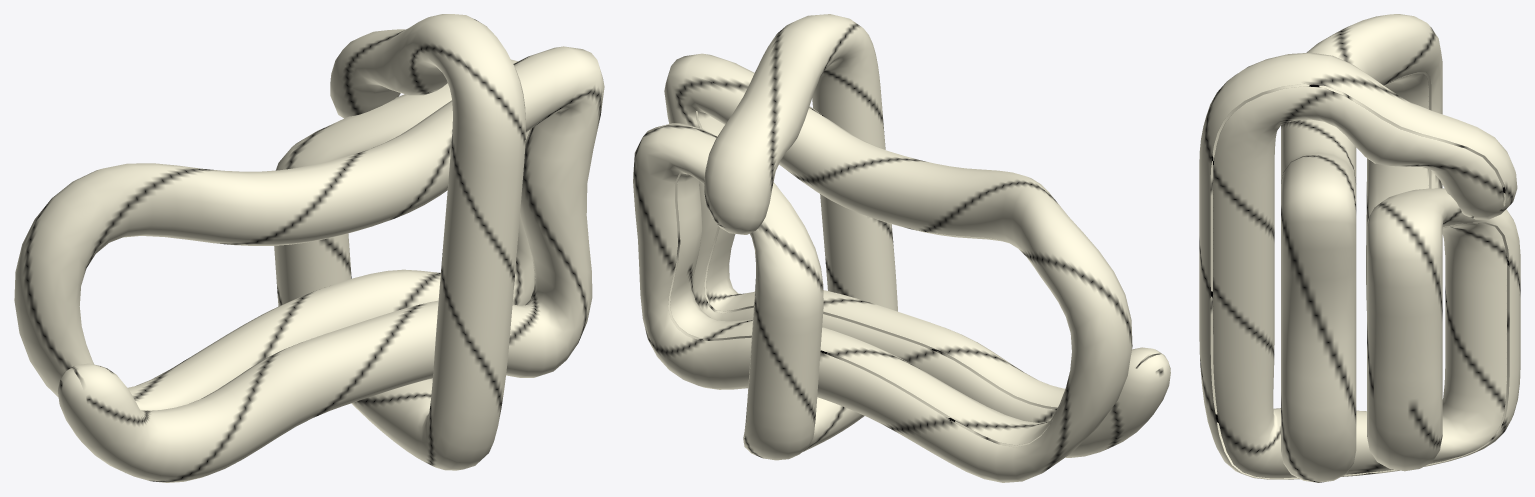
The model's file is rope.obj.
3 views of the same model, side by side, from view 1: azimuth 30°, elevation 25°; view 2: azimuth 150°, elevation 25°; view 3: azimuth 270°, elevation 25° (orthographic). The views are drawn at different scales.
Visible parts, largest first — view 1: Rope_Cube.1082; view 2: Rope_Cube.1082; view 3: Rope_Cube.1082.
Boxes of the visible parts, bbox=[...] form: Rope_Cube.1082: bbox=[14, 14, 604, 482]; Rope_Cube.1082: bbox=[633, 14, 1170, 482]; Rope_Cube.1082: bbox=[1199, 14, 1520, 482].
Bounding box in the file's own units: 2.19 × 1.66 × 1.12.
Materials: 2 (2 with a texture image).
